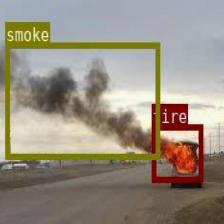fire: (151, 123, 202, 181)
smoke: (4, 41, 159, 158)
